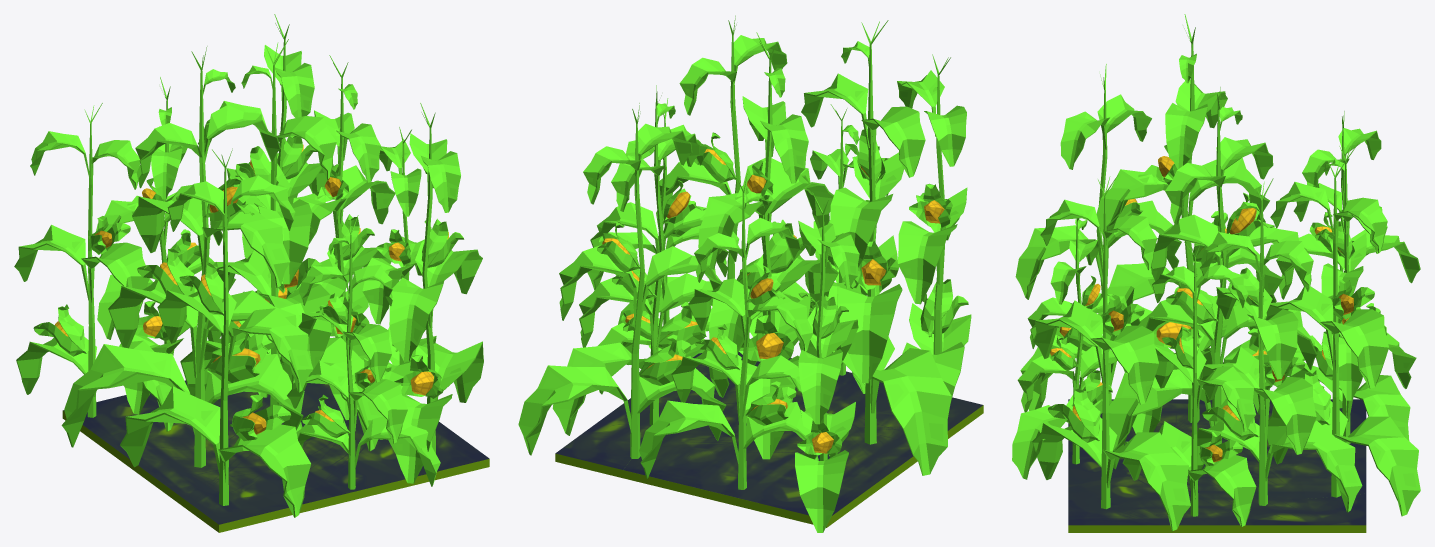
File: CornTile.fbx
The picture shows the model from 3 angles, left to right: view 1: azimuth 30°, elevation 25°; view 2: azimuth 150°, elevation 25°; view 3: azimuth 270°, elevation 25°; orthographic projection. The views are drawn at different scales.
Visible parts, largest first — view 1: Floor.182; view 2: Floor.182; view 3: Floor.182.
Boxes of the visible parts, box(x1,y1,x2,y2) form: Floor.182: box(14, 14, 489, 532); Floor.182: box(518, 15, 983, 532); Floor.182: box(1012, 14, 1420, 532).
Size of the model in its own units: 829 by 904 by 820.
Materials: 3 (3 with a texture image).
